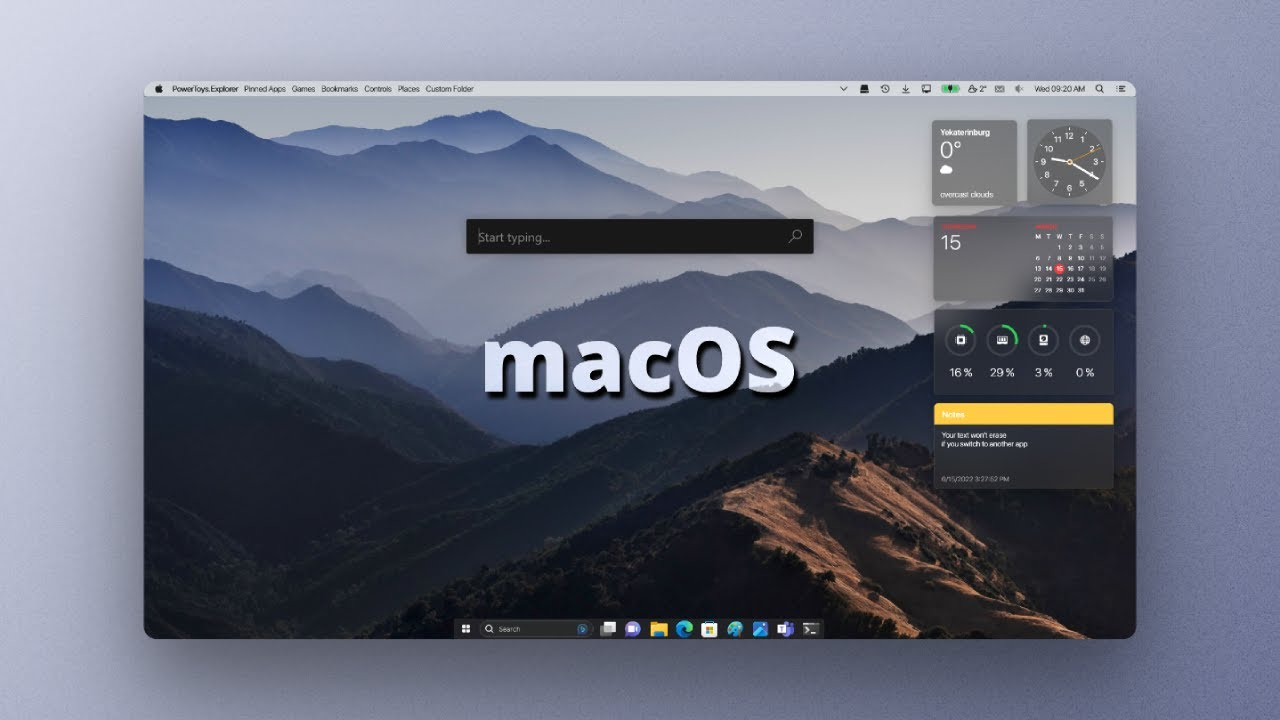search_box: (465, 220, 813, 254), (481, 620, 595, 639)
start_bar: (459, 622, 474, 637)
